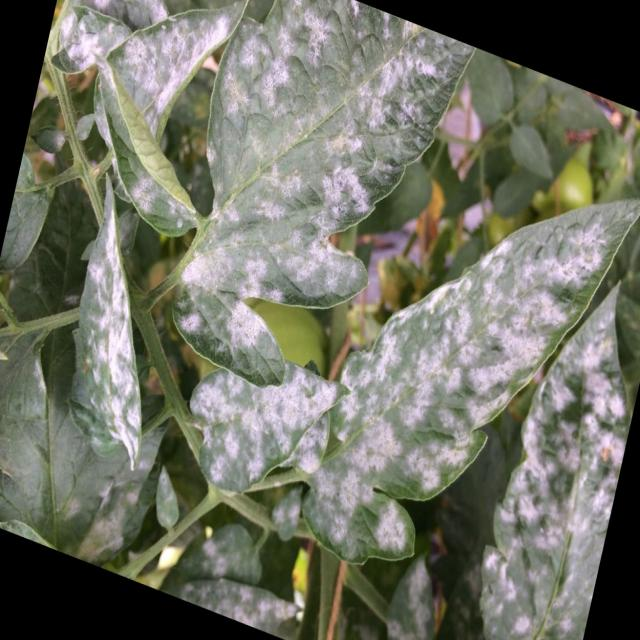Powdery Mildew: (65, 7, 618, 640)
